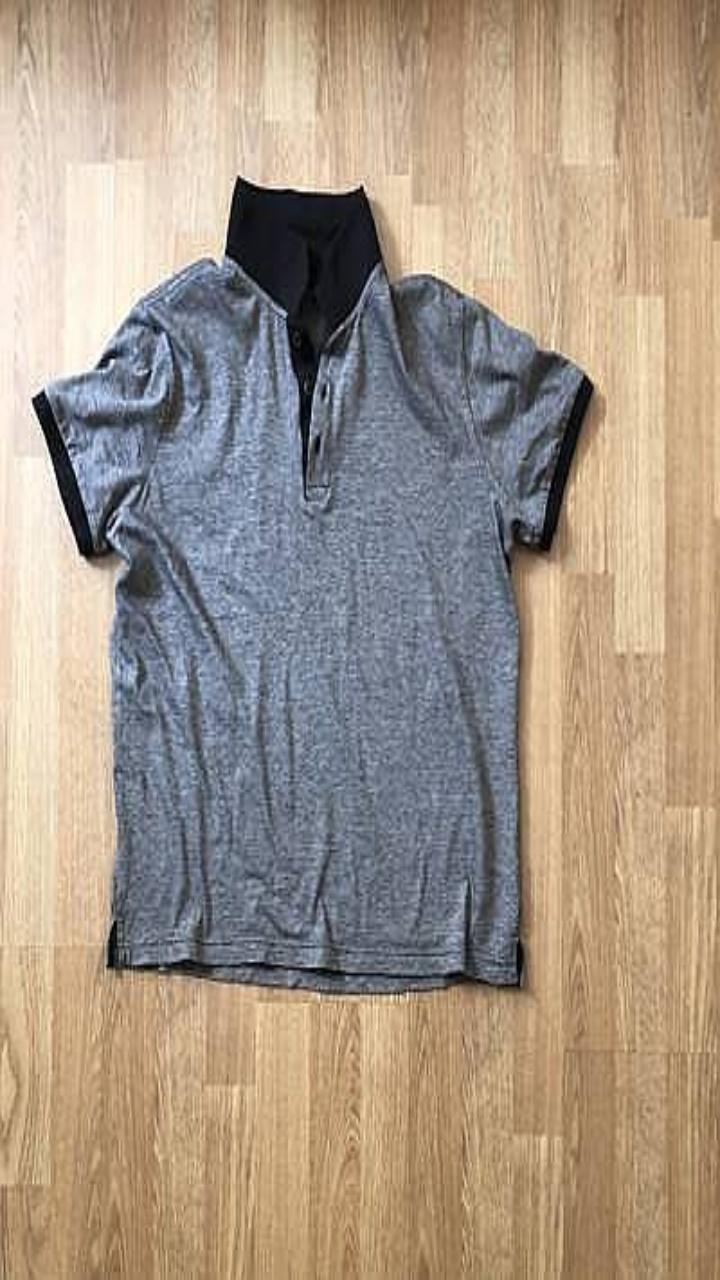T-Shirt: (32, 177, 592, 991)
